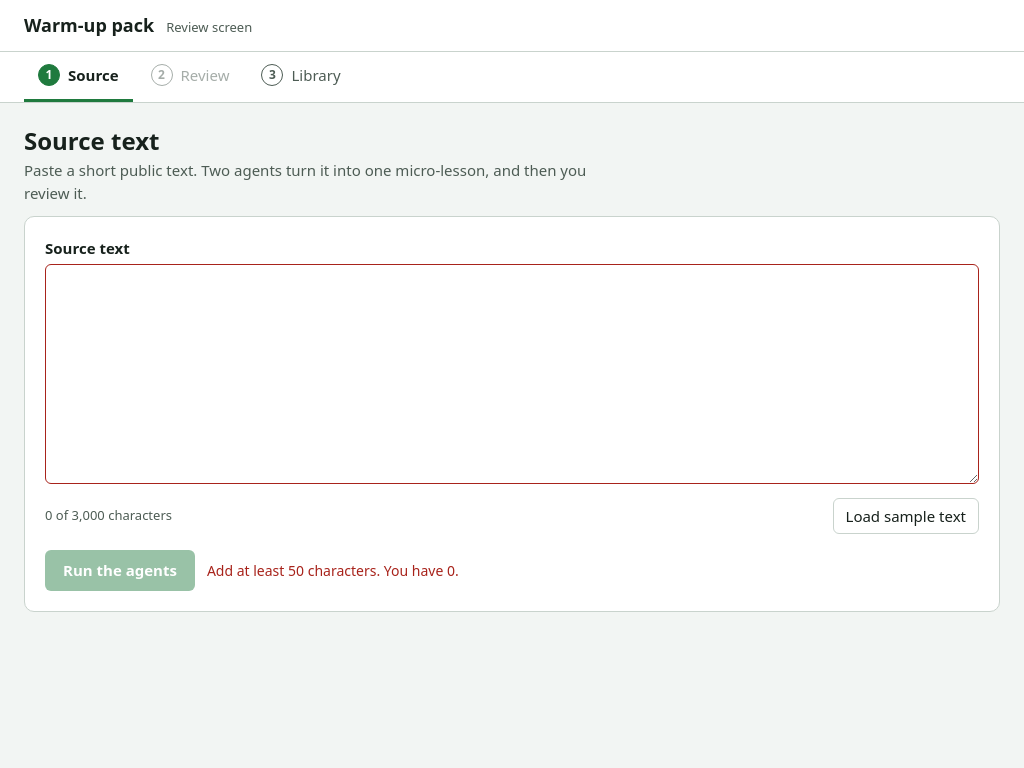
Review screen app › shows the review empty state before any lesson exists
The width and height of the screenshot is (1024, 768).
Expected: the button "2 Review" is disabled, [136,52,243,102]
Click the button "3 Library" at (301, 77), box [247,52,354,102]
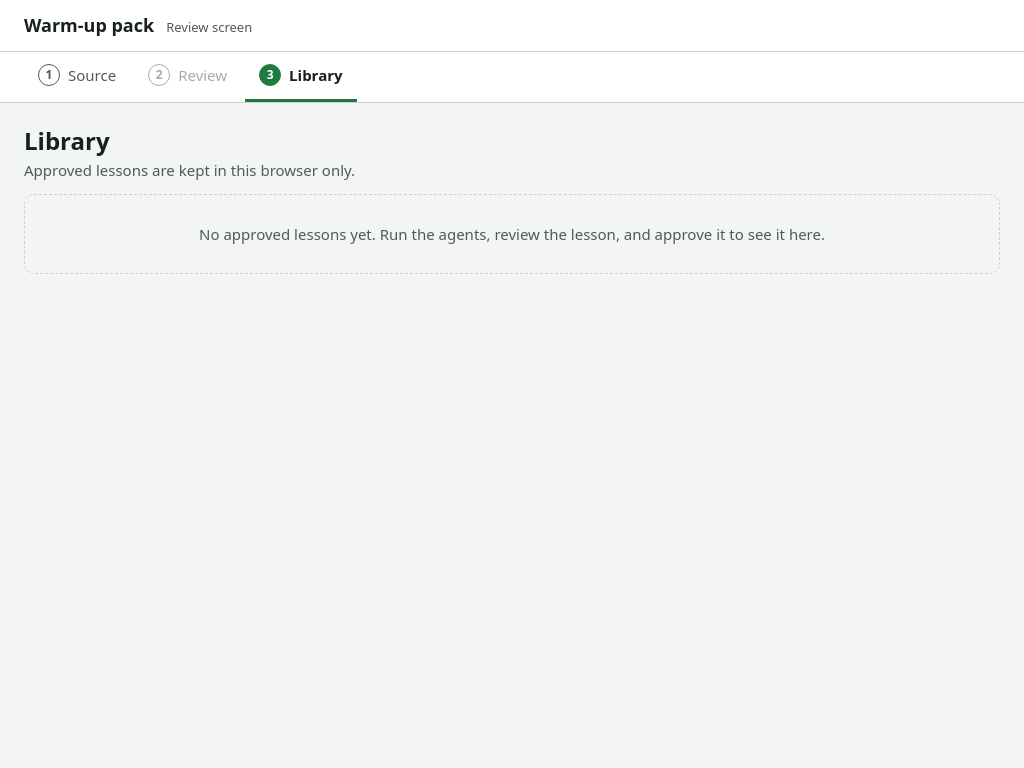
Expected: the text "No approved lessons yet. Run the agents, review the lesson, and approve it to see it here." is shown, [199,224,825,244]
